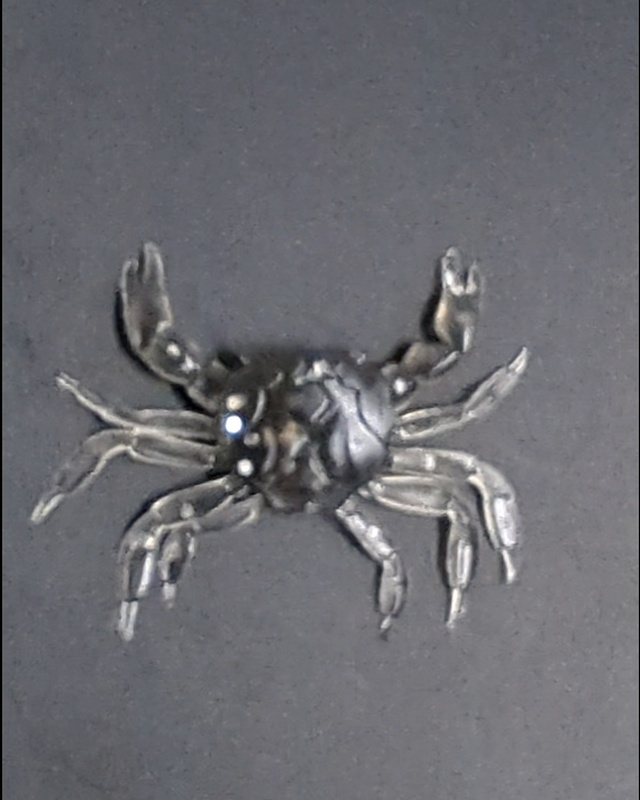crab1: (26, 237, 531, 643)
